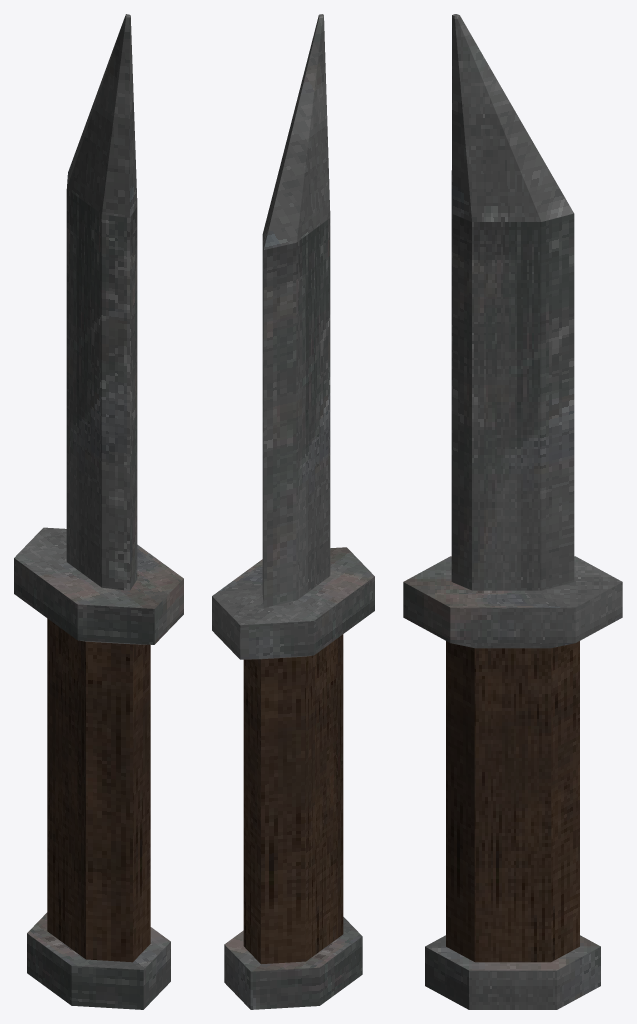
File: knife.glb
3 renders of one model, left to right at view 1: azimuth 30°, elevation 25°; view 2: azimuth 150°, elevation 25°; view 3: azimuth 270°, elevation 25°, orthographic. The views are drawn at different scales.
Parts seen in each view (by area): view 1: Cylinder; view 2: Cylinder; view 3: Cylinder.
Part boxes in pixels (x1=…): Cylinder: x1=14, y1=14, x2=183, y2=1009; Cylinder: x1=212, y1=14, x2=374, y2=1009; Cylinder: x1=403, y1=14, x2=622, y2=1009.
Bounding box in the file's own units: 0.2385 × 2.11 × 0.432.
Materials: 1 (1 with a texture image).
